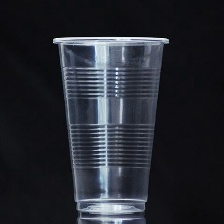glass: (47, 30, 173, 219)
